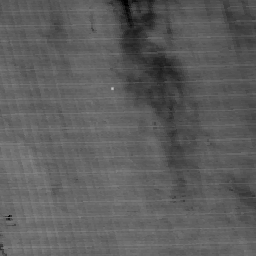Target: (109, 85, 115, 93)
